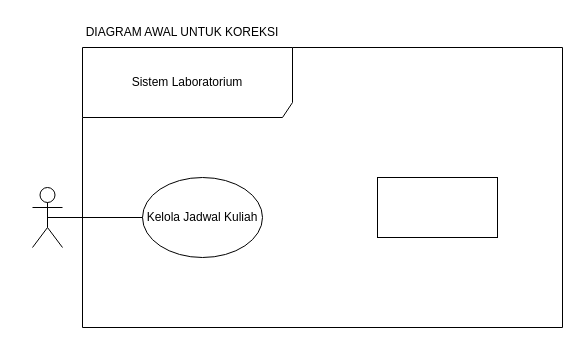
Image size: 580x345. Some labels were removed from this diagram. Here are the shapes that lost their labels. From the top down, the box of each, then its label:
(32, 186, 62, 248): Mahasiswa
(376, 176, 498, 238): Lihat Jadwal Kuliah
